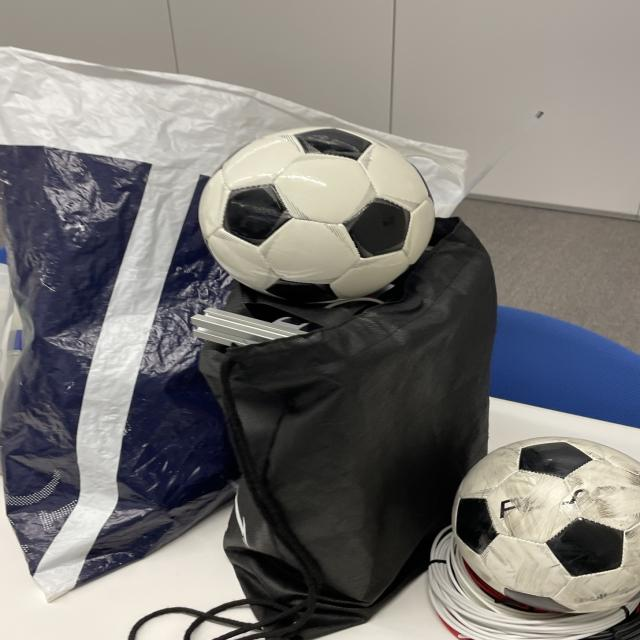soccer: (197, 128, 434, 302), (457, 436, 640, 611)
